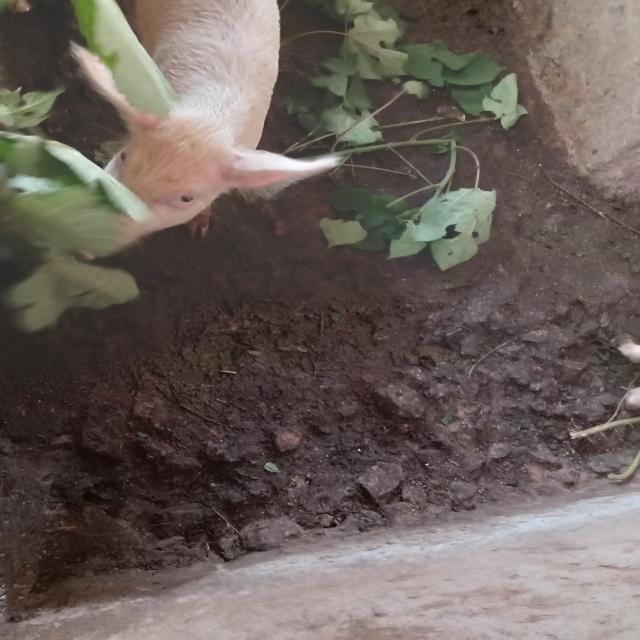pig: (0, 0, 405, 282)
